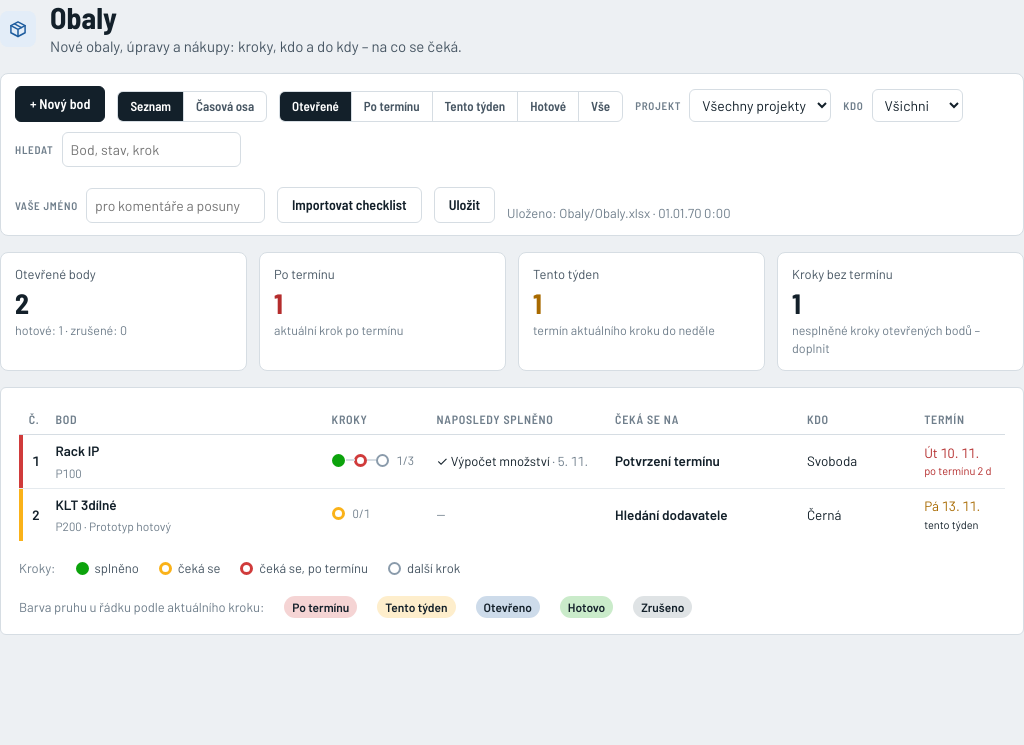
Test: PackagingPage › nový bod a filtr Hotové
The width and height of the screenshot is (1024, 745).
Click the button "Hotové" at coordinates (548, 106), box [517,92,578,121]
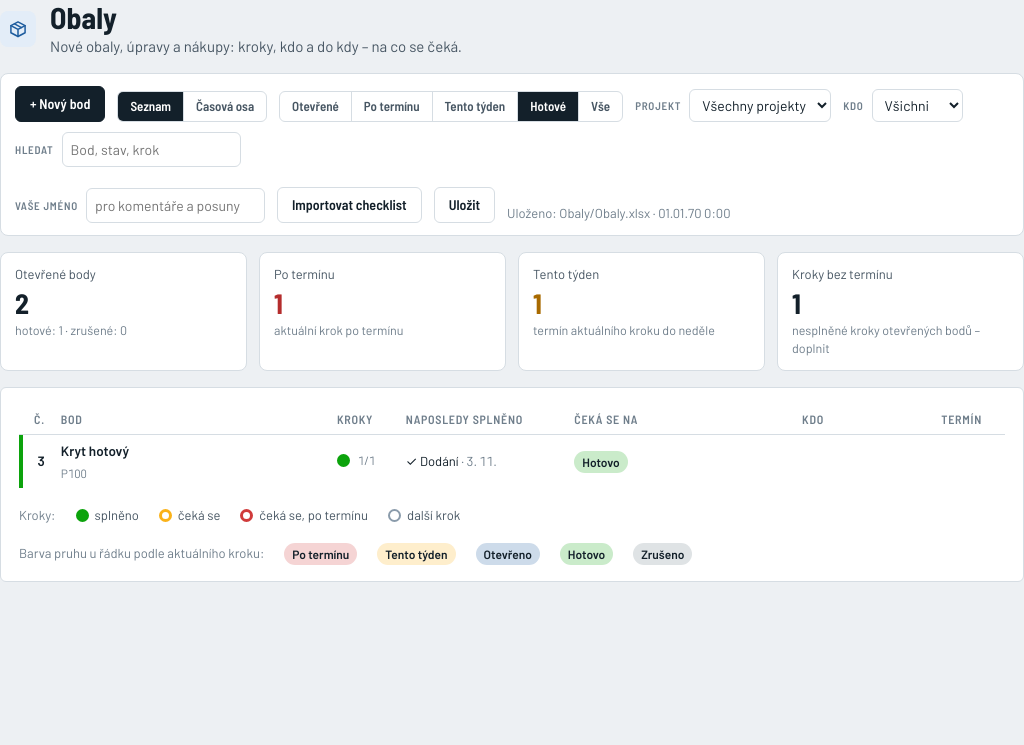
Click the button "+ Nový bod" at coordinates (60, 104), box [15,86,106,122]
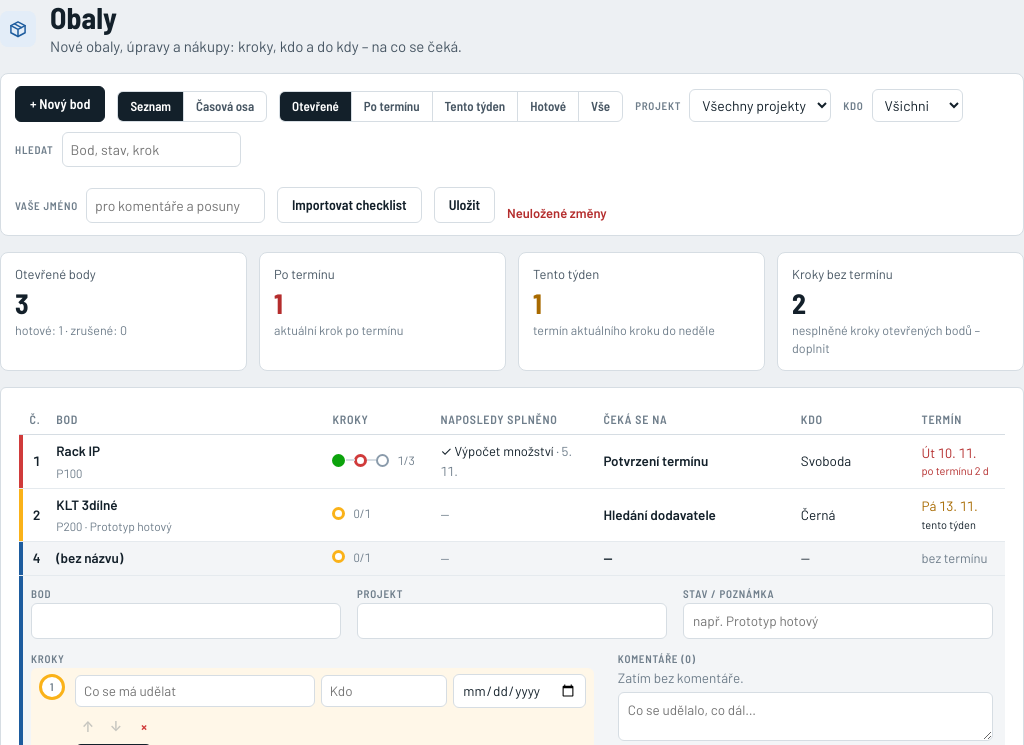
Now the field named "Krok 1" is shown, box [75,675,315,707]
